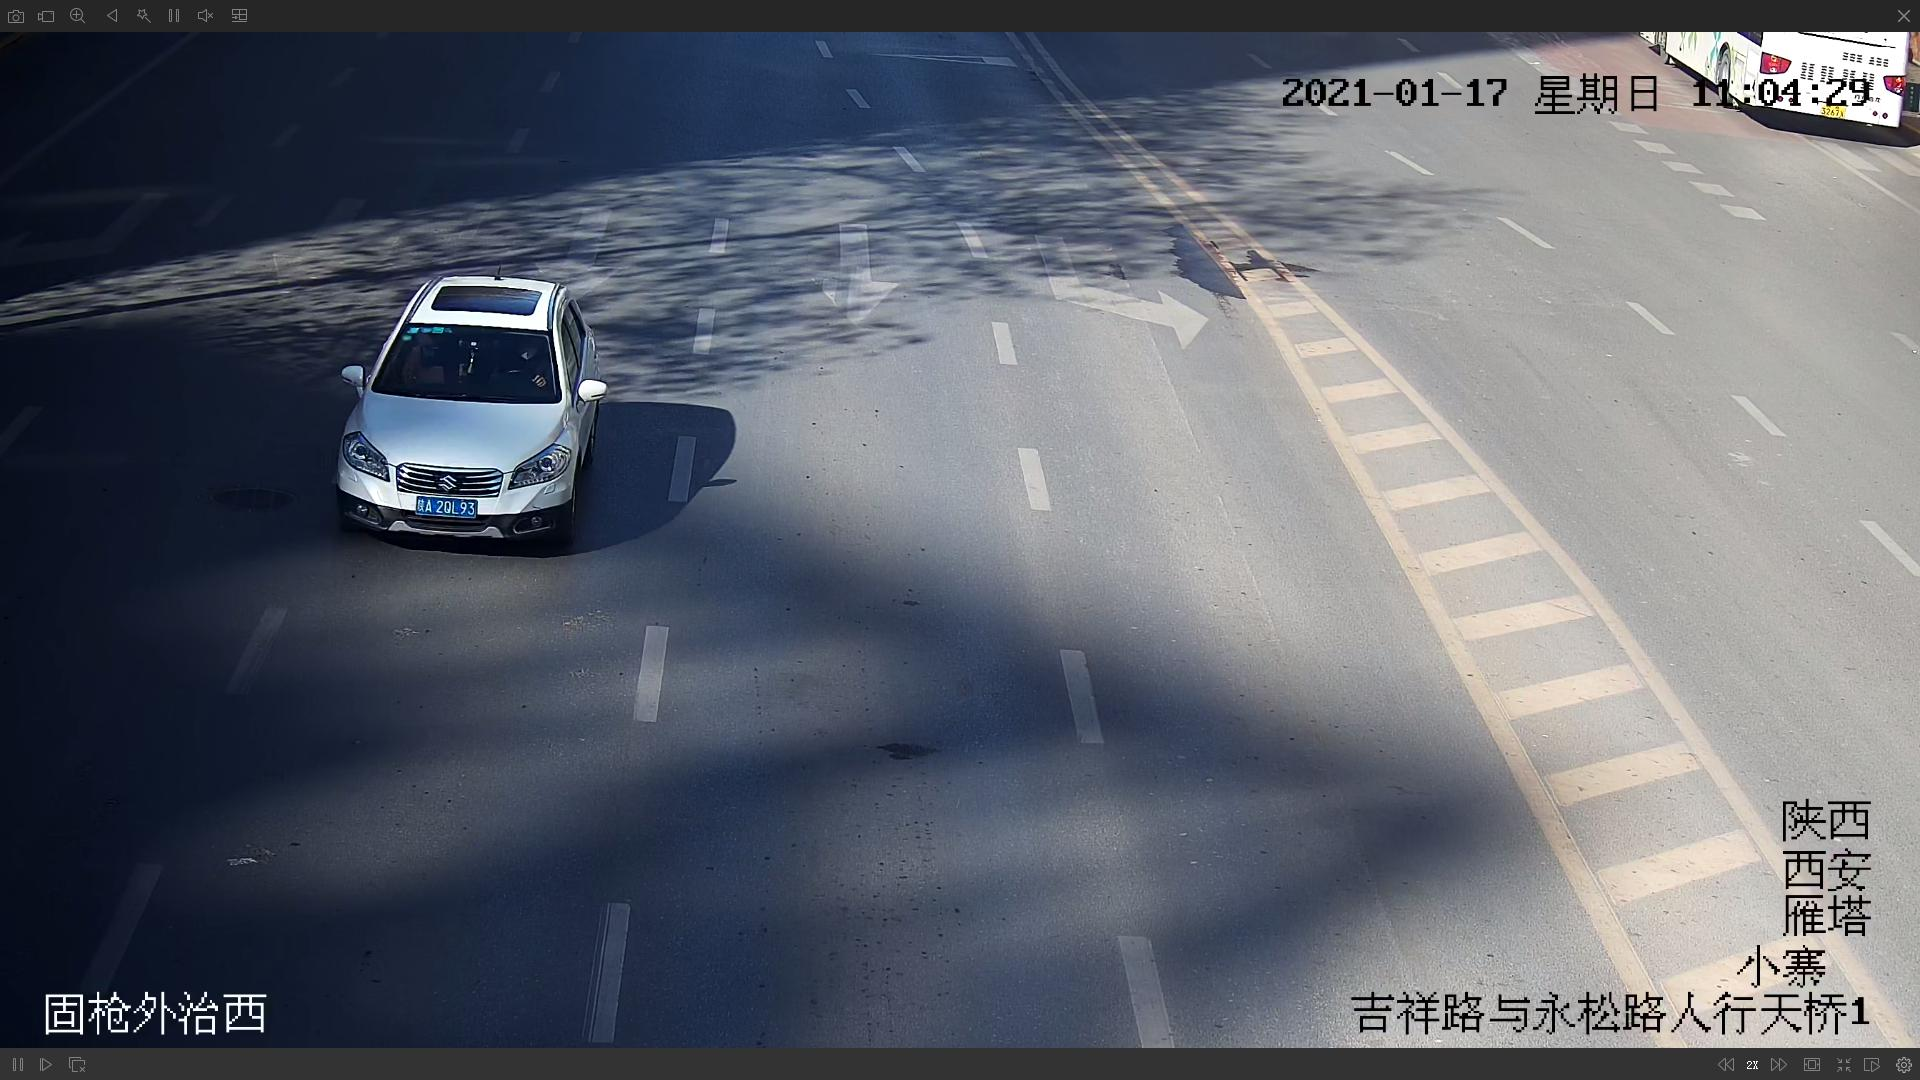white: (330, 270, 611, 550)
